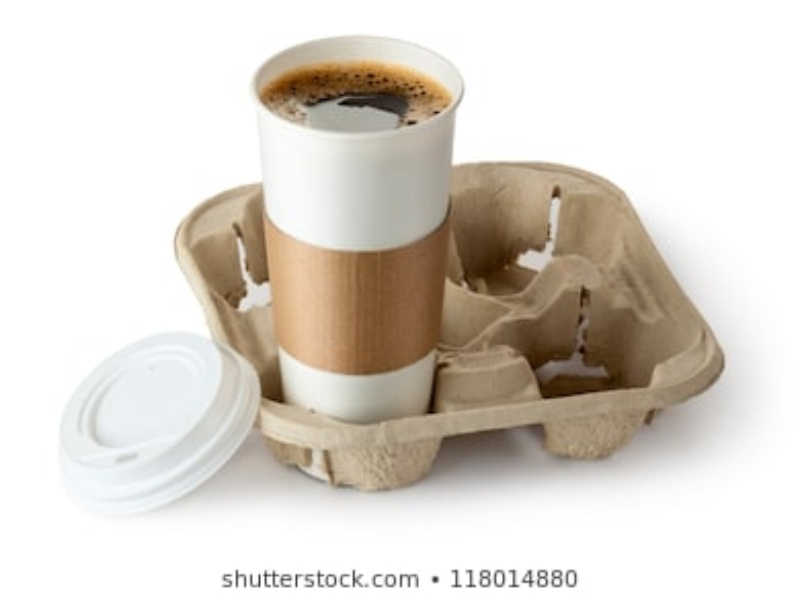coffee-lid: (59, 328, 263, 516)
plastic-cup: (248, 30, 465, 425)
